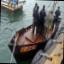fishing boat: (7, 11, 64, 64)
